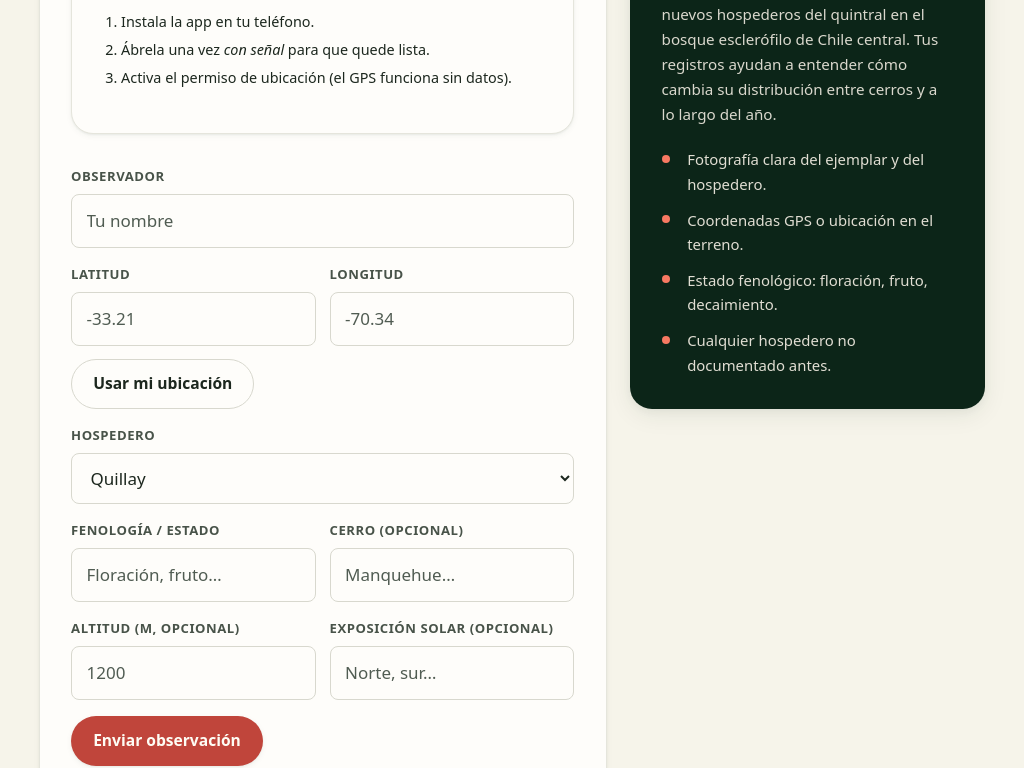
Scenario: ContributeForm (offline-first) › captura altitud GPS al usar la ubicación
The width and height of the screenshot is (1024, 768).
(page scrolled)
Click the button "Usar mi ubicación" at (163, 384), box [71,359,254,409]
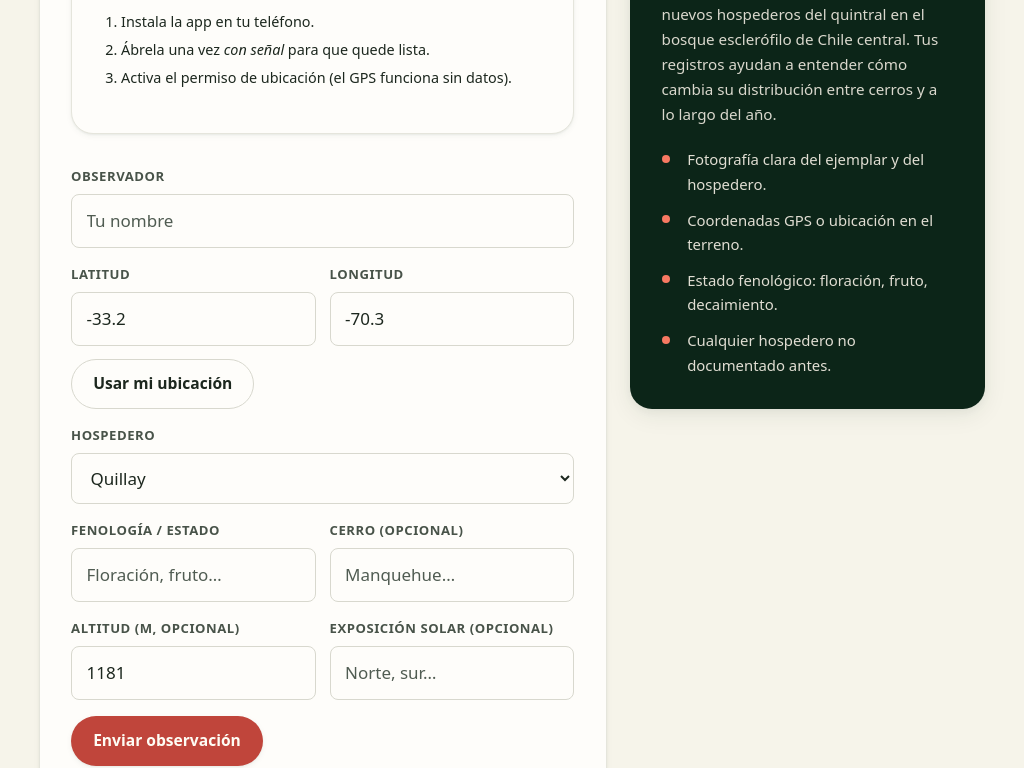
Check: the field with placeholder "-33.21" holds "-33.2", box [71,292,316,346]
Check: the field with placeholder "1200" holds "1181", box [71,646,316,700]
